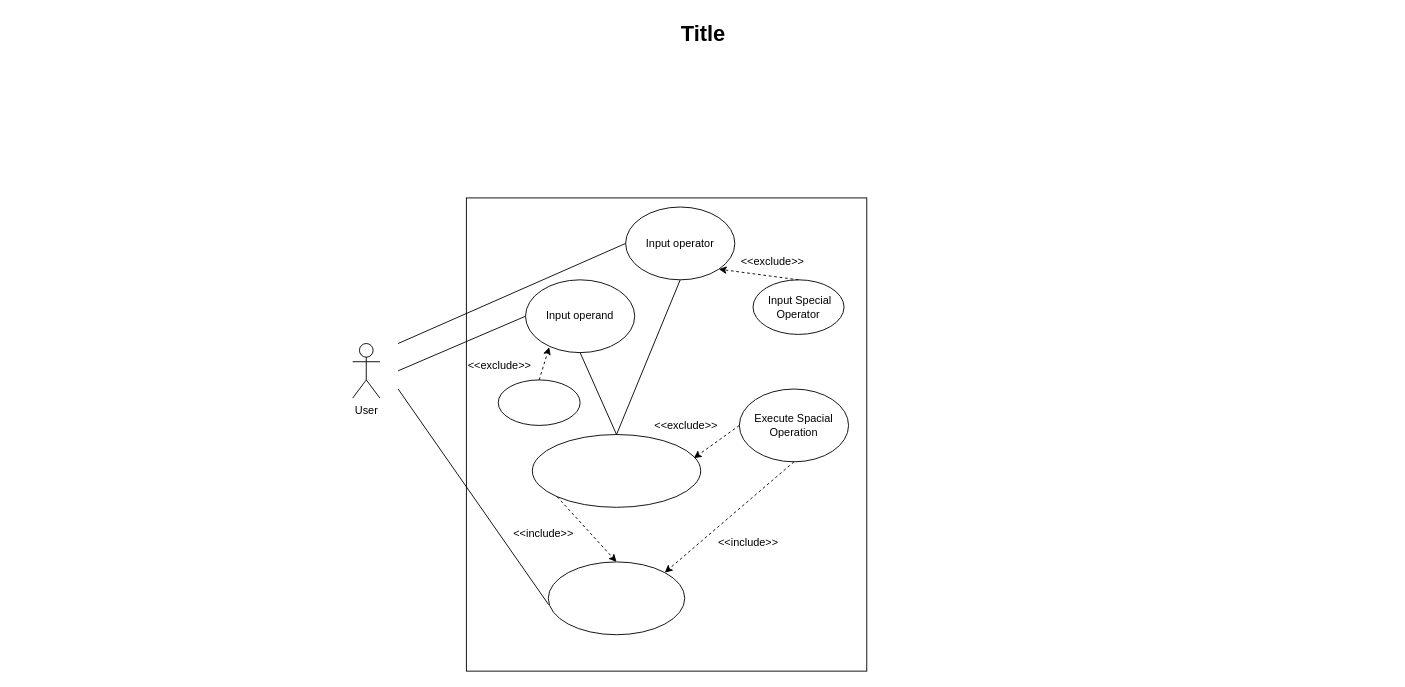
The diagram is 1405 pixels wide and 687 high, and some of its shapes have lost their labels. Here are the shapes that lost their labels. From the top down, the box of each, then its label:
(497, 379, 580, 425): Input a Special number
(531, 434, 701, 507): Calculate Expression
(547, 561, 685, 635): Display Result
